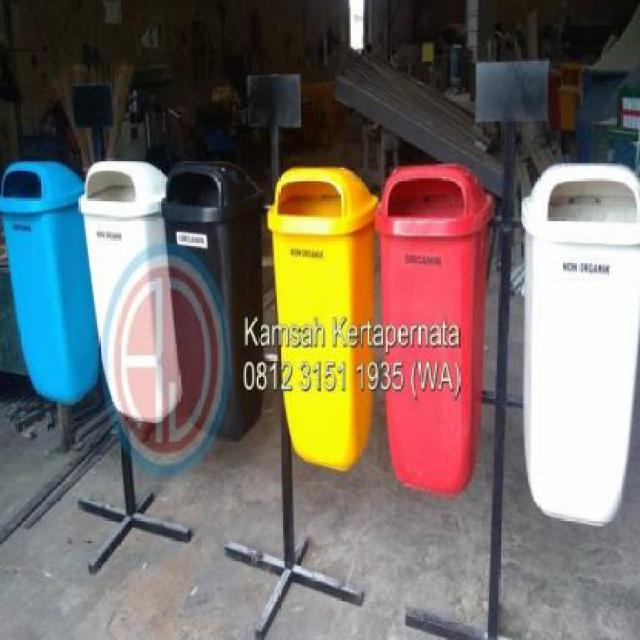garbage container: (513, 158, 640, 549), (379, 150, 501, 516), (263, 160, 379, 502), (86, 153, 171, 446), (2, 153, 96, 412)
